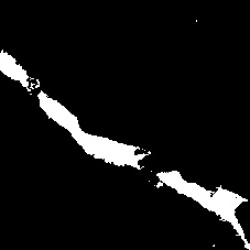crack: (1, 51, 150, 170), (158, 169, 247, 246)
pinhole: (192, 19, 201, 23)
